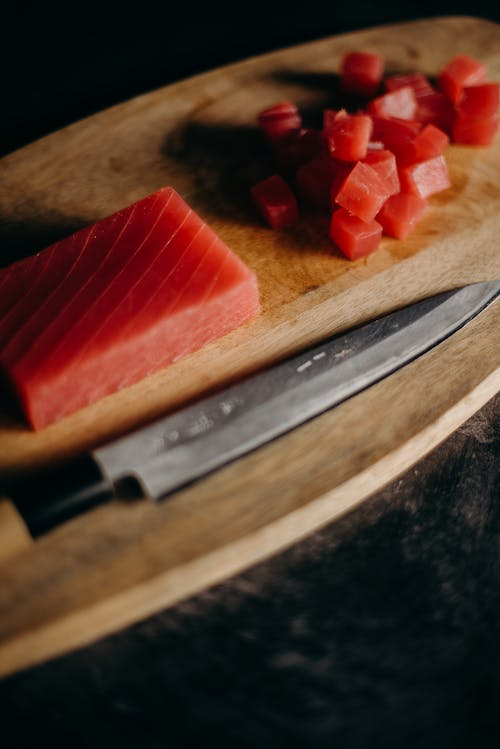knife: (0, 275, 500, 566)
